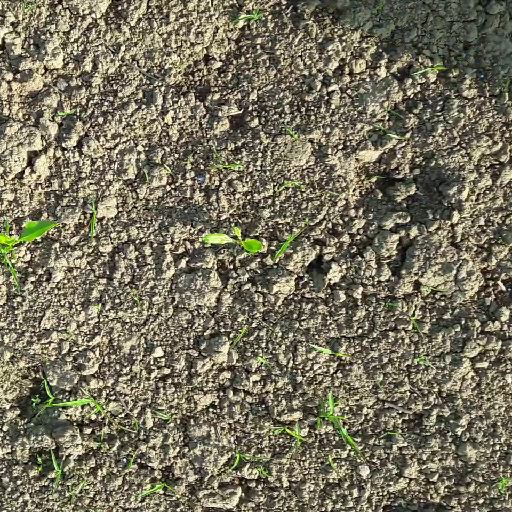sugarbeet: (1, 220, 60, 252), (204, 228, 264, 253)
weed: (314, 392, 364, 454), (276, 225, 310, 261), (53, 400, 112, 420), (233, 448, 275, 472), (307, 342, 355, 361), (49, 447, 66, 493), (270, 427, 308, 447), (229, 325, 246, 364), (135, 482, 172, 498), (369, 122, 401, 140), (40, 378, 54, 419), (410, 61, 448, 75), (408, 311, 423, 339), (239, 7, 267, 21), (284, 125, 302, 144), (254, 356, 274, 371), (90, 202, 97, 242), (153, 410, 173, 423), (498, 476, 512, 494), (217, 160, 244, 169), (378, 431, 402, 439), (56, 107, 75, 114), (383, 300, 396, 307), (31, 396, 40, 405), (94, 304, 102, 313), (286, 181, 300, 186)
